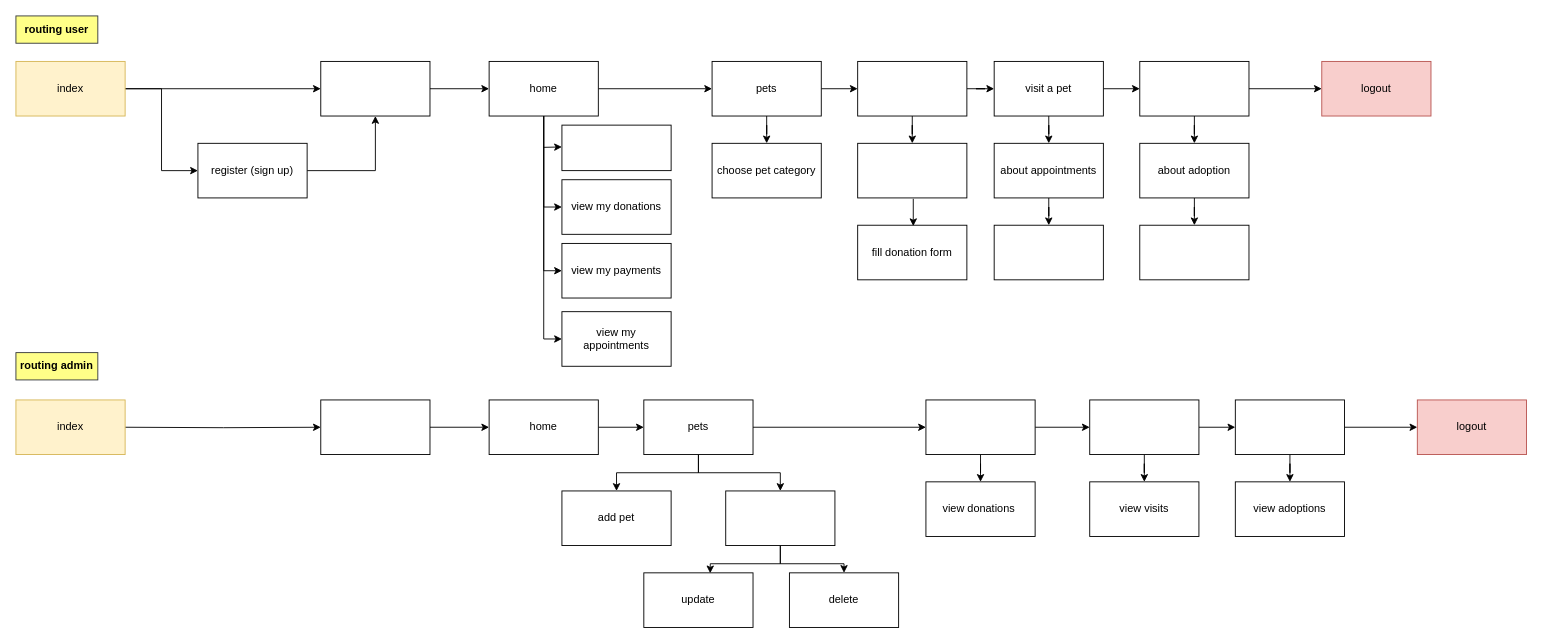
Some shapes in this 1542 by 643 pixel diagram are drawn without their labels. Each missing label, with the centre of its shape:
"about donations" belongs at (912,170).
"adopt" belongs at (1194,88).
"adoptions" belongs at (1289,427).
"donation" belongs at (912,88).
"donations" belongs at (980,427).
"fill adoption form" belongs at (1194,252).
"fill appointment form" belongs at (1048,252).
"login" belongs at (375,427).
"login (sign in)" belongs at (375,88).
"view my pets (adopted)" belongs at (616,147).
"view pets" belongs at (780,518).
"visits" belongs at (1144,427).
